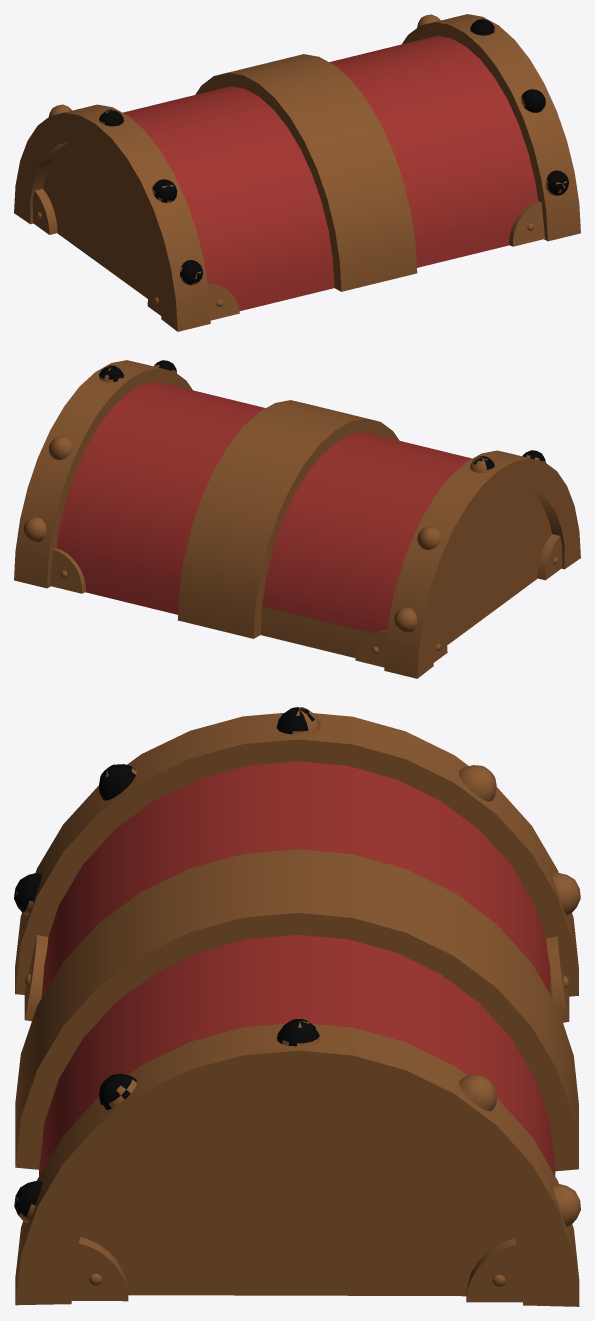
Rendered from chestTop.fbx.
3 renders of one model, top to bottom at view 1: azimuth 30°, elevation 25°; view 2: azimuth 150°, elevation 25°; view 3: azimuth 270°, elevation 25°, orthographic. The views are drawn at different scales.
Parts seen in each view (by area): view 1: tampa_low.003; view 2: tampa_low.003; view 3: tampa_low.003.
Part boxes in pixels (box(x1,y1,x2,y2)): tampa_low.003: box(14, 14, 580, 331); tampa_low.003: box(14, 360, 580, 678); tampa_low.003: box(14, 707, 580, 1306).
Size of the model in its own units: 266 by 101 by 188.
